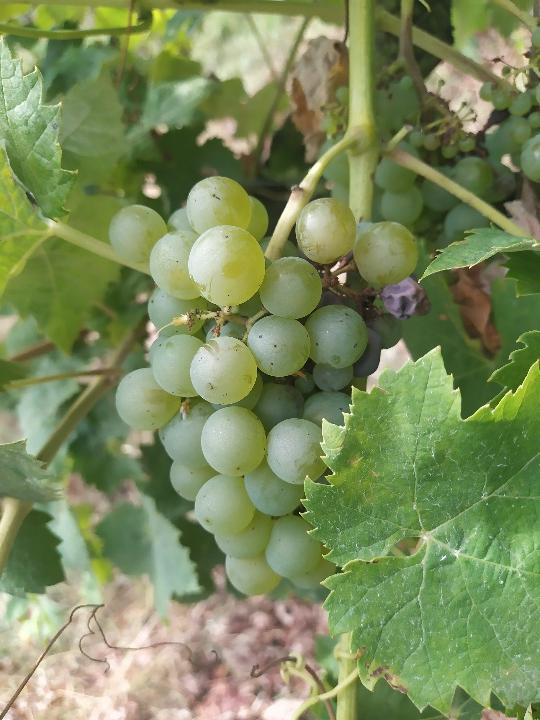grape: (107, 173, 423, 600)
